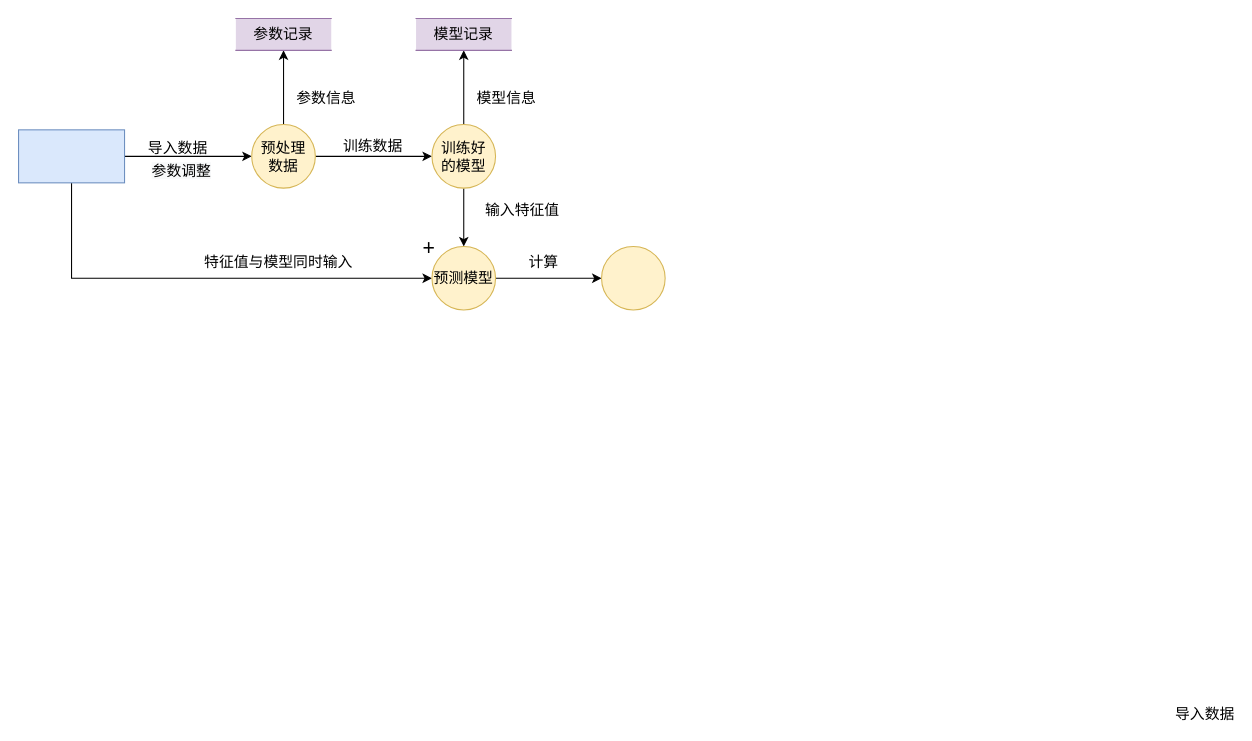
Some shapes in this 1252 by 741 pixel diagram are drawn without their labels. The centre of each missing label's shape, as x and y in pixels:
"操作者" belongs at point 71,156.
"预测结果" belongs at point 632,277.
